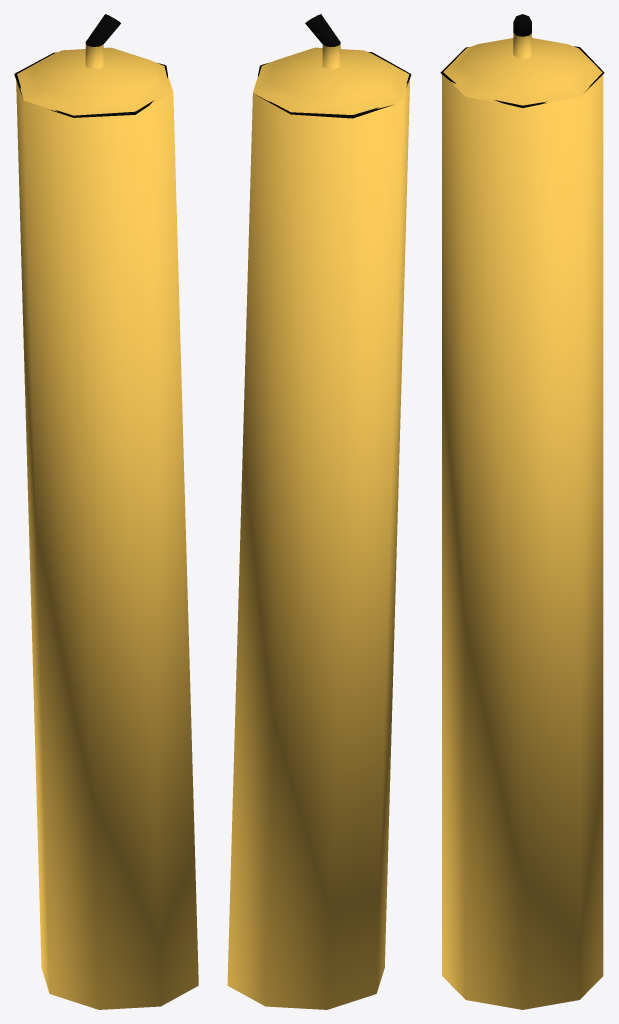
The model's file is candle.glb.
The picture shows the model from 3 angles, left to right: view 1: azimuth 30°, elevation 25°; view 2: azimuth 150°, elevation 25°; view 3: azimuth 270°, elevation 25°; orthographic projection.
Parts seen in each view (by area): view 1: Candle, Point, Line; view 2: Candle, Point, Line; view 3: Candle.
Boxes of the visible parts, x1=… form: Candle: x1=16, y1=43, x2=198, y2=1009; Point: x1=85, y1=14, x2=120, y2=46; Line: x1=14, y1=52, x2=167, y2=117; Candle: x1=227, y1=43, x2=410, y2=1009; Point: x1=305, y1=14, x2=340, y2=46; Line: x1=256, y1=52, x2=411, y2=118; Candle: x1=442, y1=33, x2=603, y2=1009.
Size of the model in its own units: 0.1017 by 0.563 by 0.0878.
